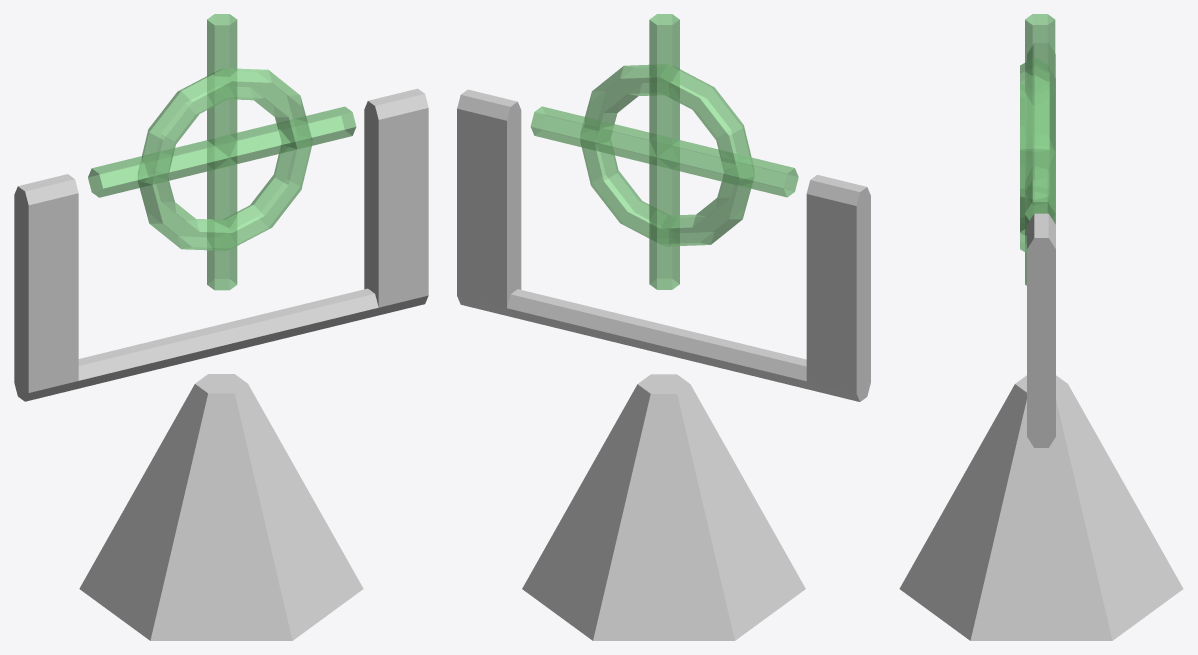
File: Plyer_aimAssist.fbx
3 renders of one model, left to right at view 1: azimuth 30°, elevation 25°; view 2: azimuth 150°, elevation 25°; view 3: azimuth 270°, elevation 25°, orthographic.
Parts seen in each view (by area): view 1: Cylinder.002, Torus.001; view 2: Cylinder.002, Torus.001; view 3: Cylinder.002, Torus.001.
Boxes of the visible parts, x1,y1,x2,y2 form: Cylinder.002: (14, 88, 428, 640); Torus.001: (88, 14, 356, 290); Cylinder.002: (457, 89, 870, 640); Torus.001: (530, 14, 798, 289); Cylinder.002: (899, 43, 1183, 640); Torus.001: (1020, 14, 1055, 285).
Size of the model in its own units: 90.35 by 123 by 55.64.
